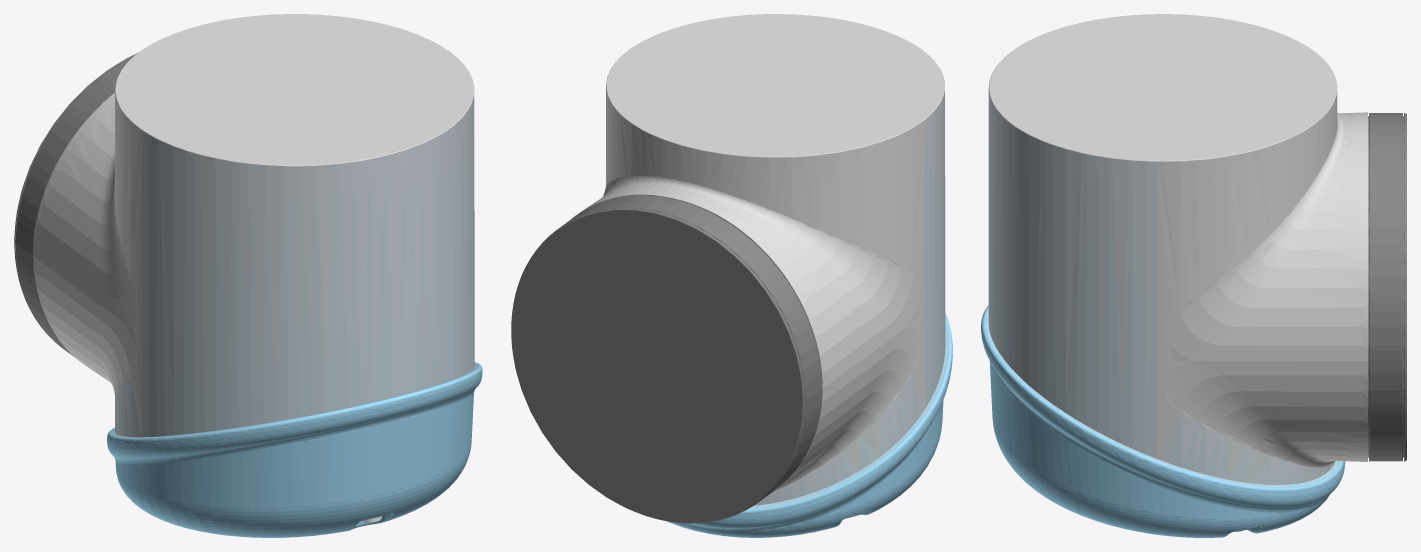
File: UR16eLink5.dae
The picture shows the model from 3 angles, left to right: view 1: azimuth 30°, elevation 25°; view 2: azimuth 150°, elevation 25°; view 3: azimuth 270°, elevation 25°; orthographic projection. The views are drawn at different scales.
Visible parts, largest first — view 1: UR16eLink5; view 2: UR16eLink5; view 3: UR16eLink5.
Boxes of the visible parts, box(x1,y1,x2,y2) form: UR16eLink5: box(14, 14, 482, 537); UR16eLink5: box(511, 14, 952, 537); UR16eLink5: box(981, 14, 1406, 537).
Bounding box in the file's own units: 0.094 × 0.1099 × 0.114.
